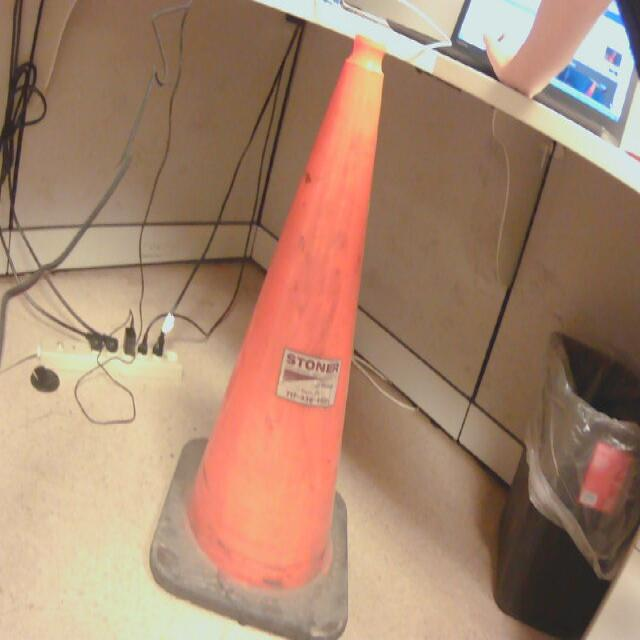traffic cone: (151, 42, 388, 640)
